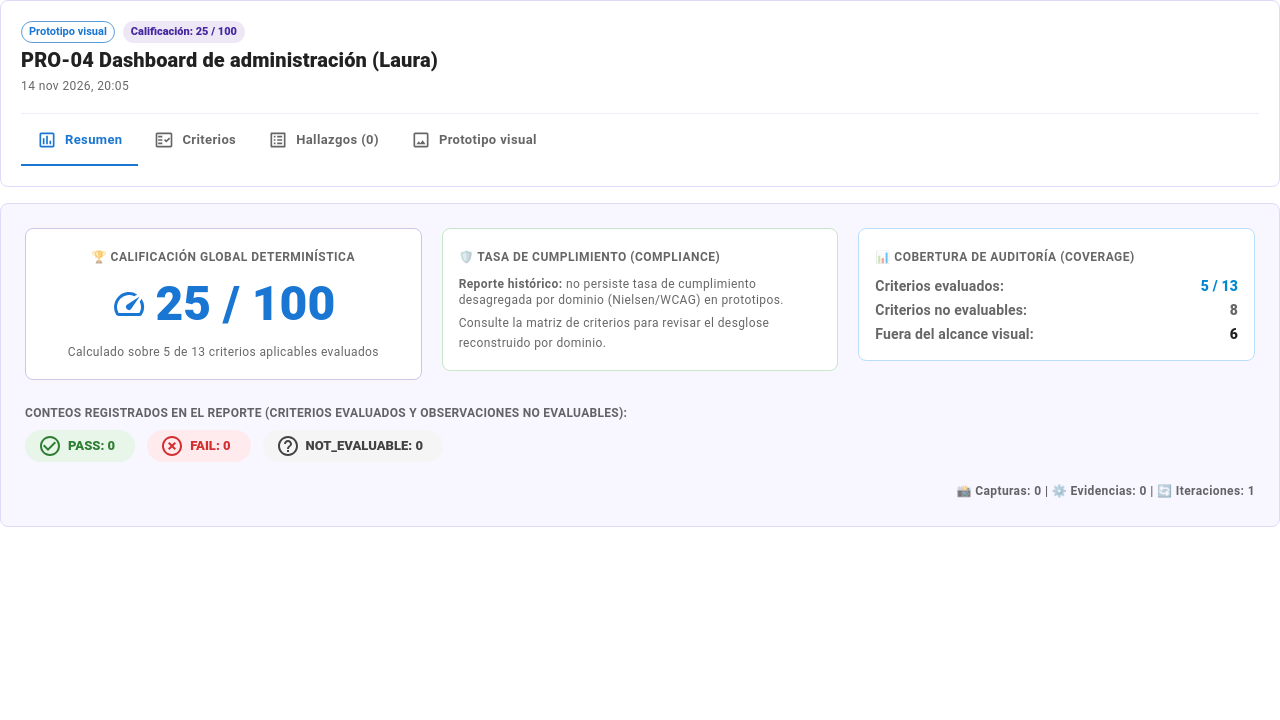
Test case: EvaluationResultsView — Etapa 2: 4 secciones, narrativa priorizada, Drawer y navegación Criterios -> Hallazgos › renders Prototipo visual tab with accessible image link and descriptive context for EJE-14 prototype
Click the tab "Prototipo visual" at [474, 140], box left=395, top=118, right=553, bottom=162
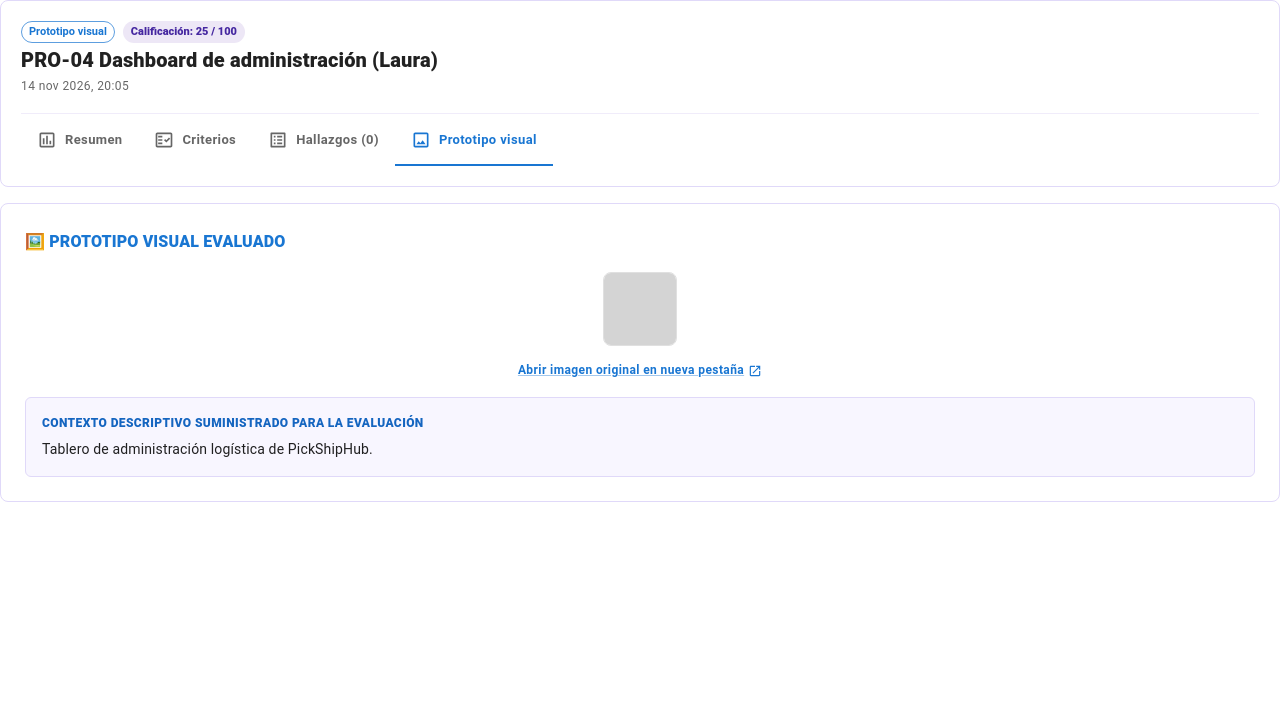
Result: the text "Tablero de administración logística de PickShipHub." is shown at left=42, top=441, right=373, bottom=457
